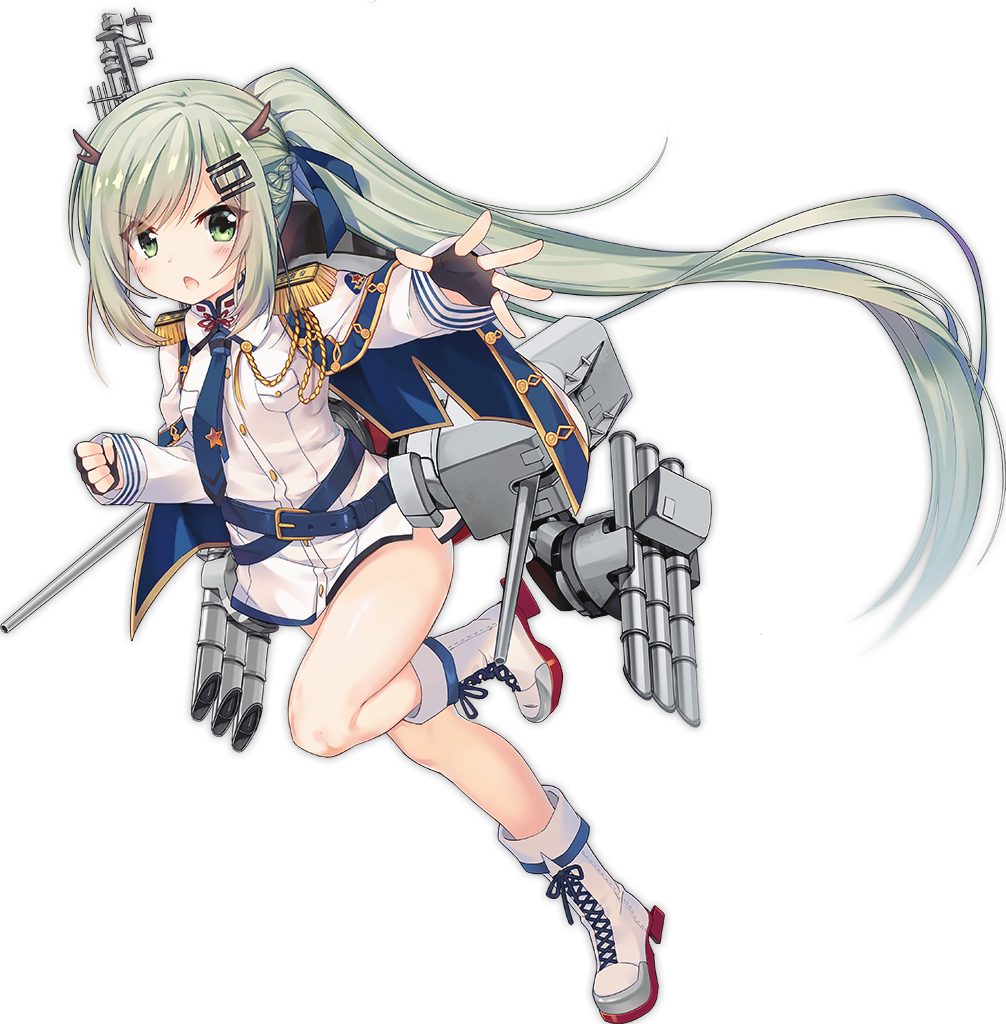person: (62, 70, 620, 862)
